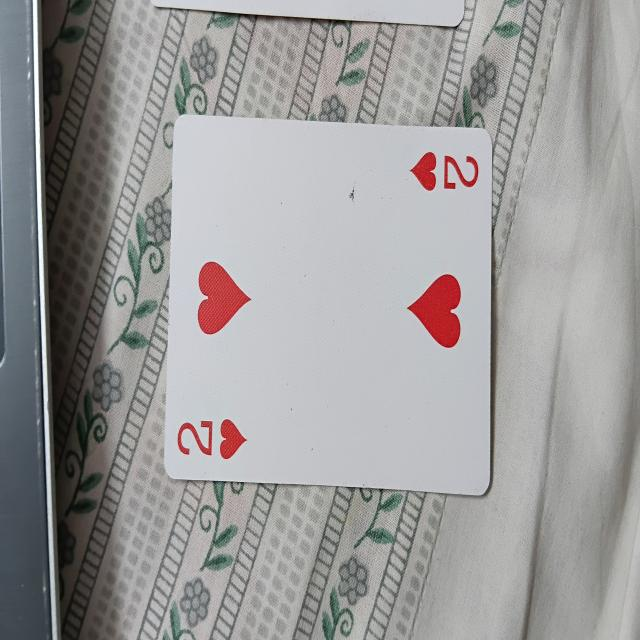2H: (168, 118, 492, 490)
